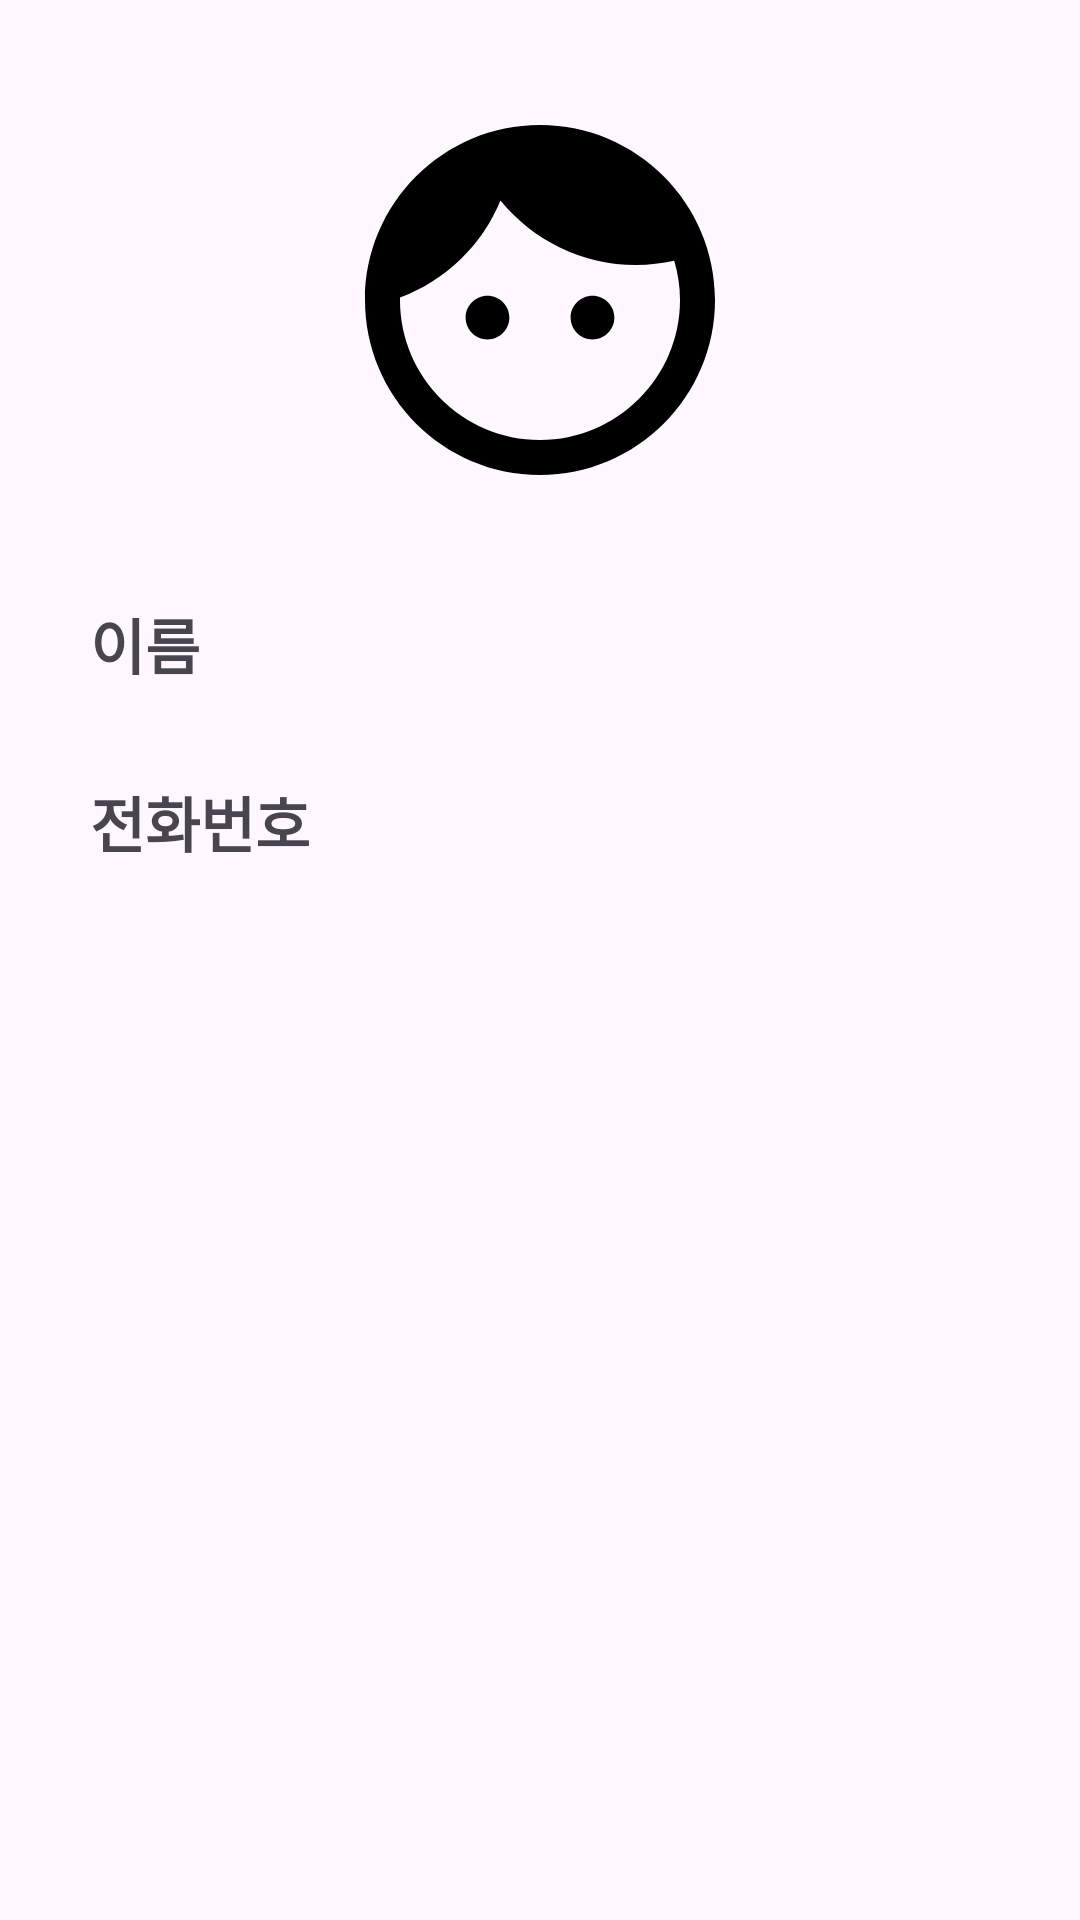

Icon bounding boxes for this 1080x1920 phone screenshot, format detection(x1, y1, x2, y2):
face: detection(365, 125, 715, 475)
